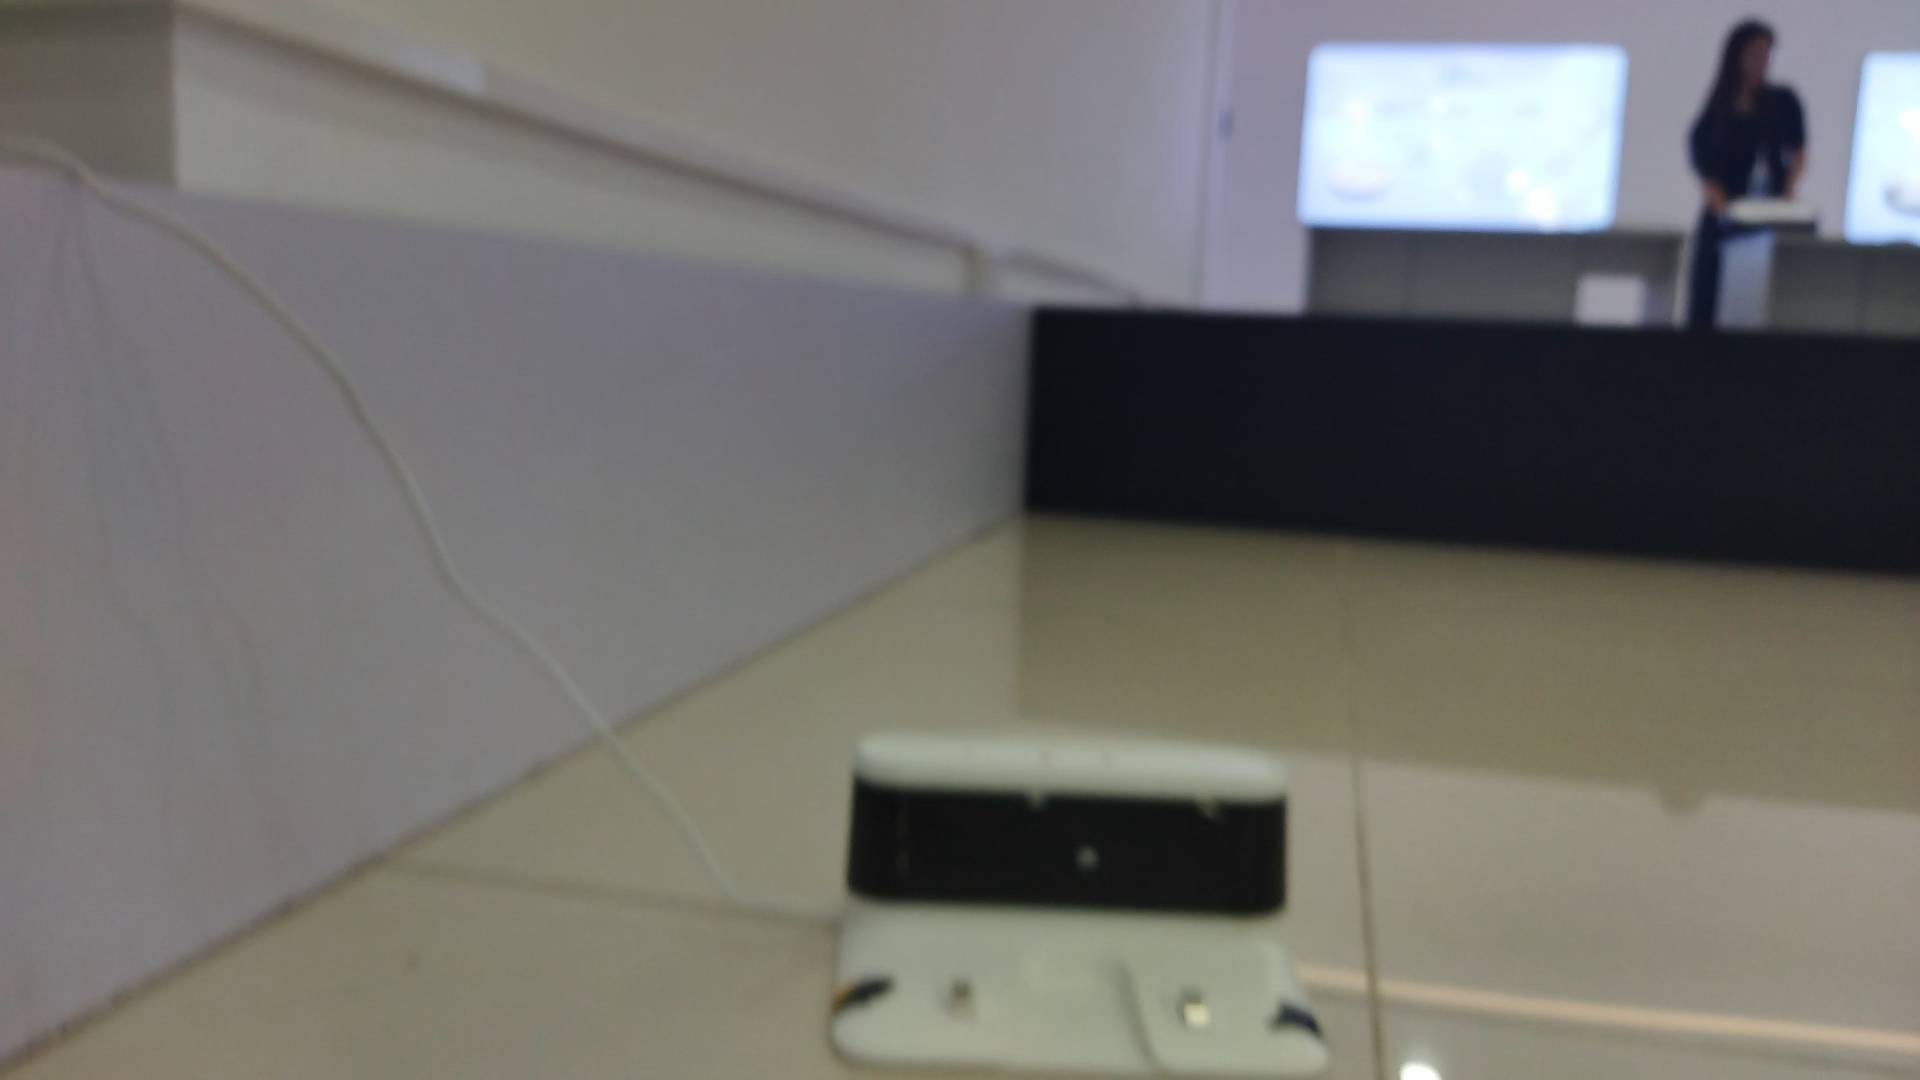recharge seat: (828, 727, 1337, 1077)
